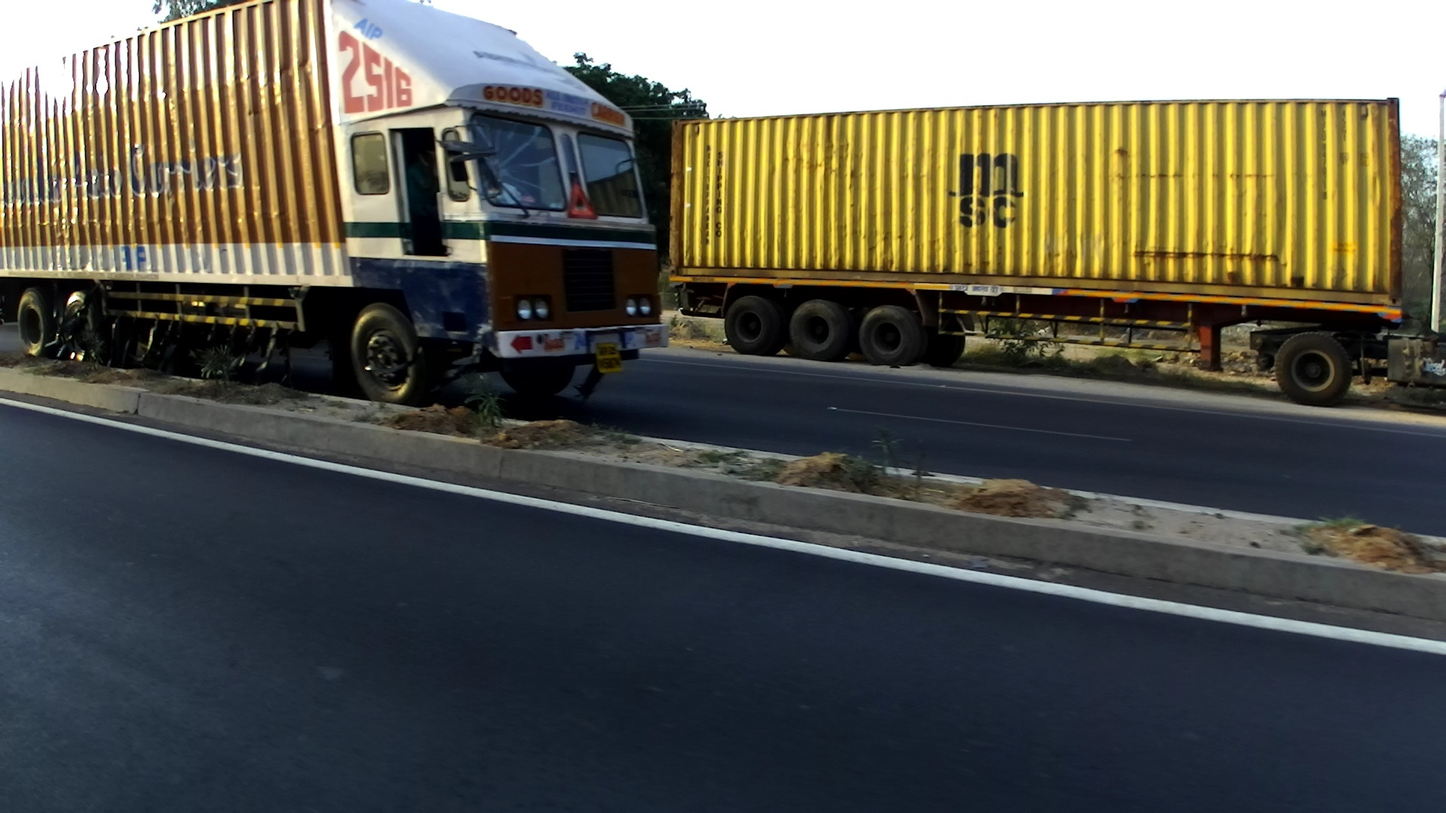truck: (1, 1, 667, 404), (667, 88, 1444, 405)
